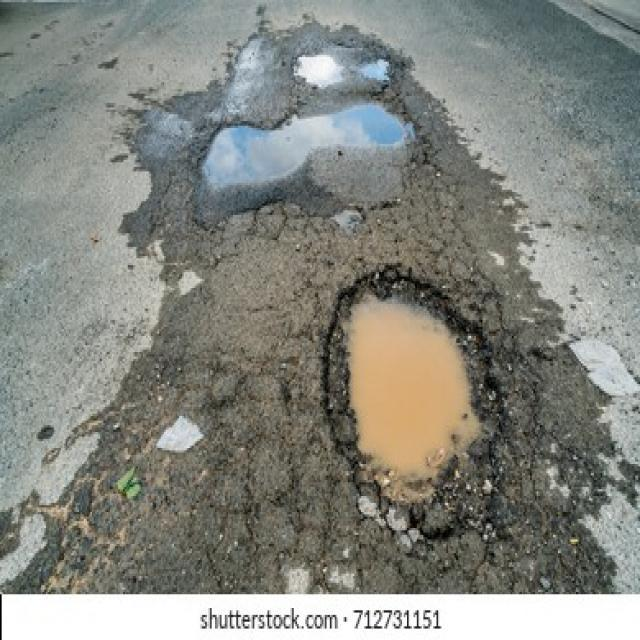Pothole: (322, 267, 508, 535), (200, 98, 414, 190), (292, 52, 346, 92), (354, 54, 392, 84)
